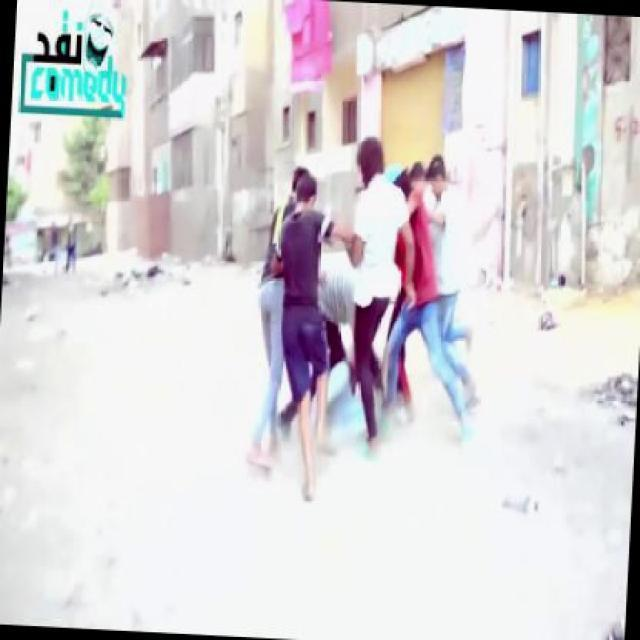fight: (324, 123, 419, 451)
